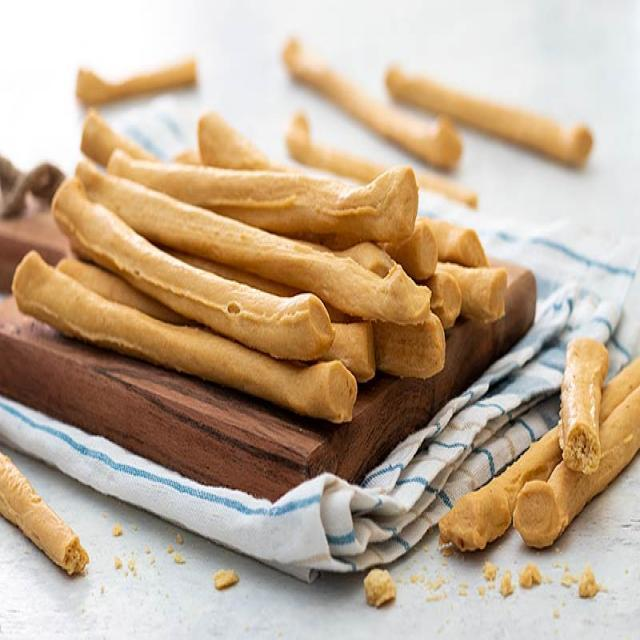Grissini: (19, 127, 513, 413)
